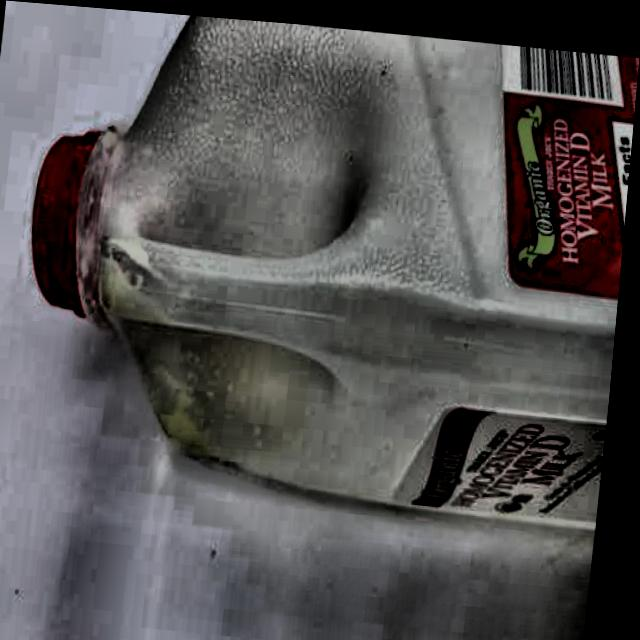Plastic: (2, 3, 640, 546)
